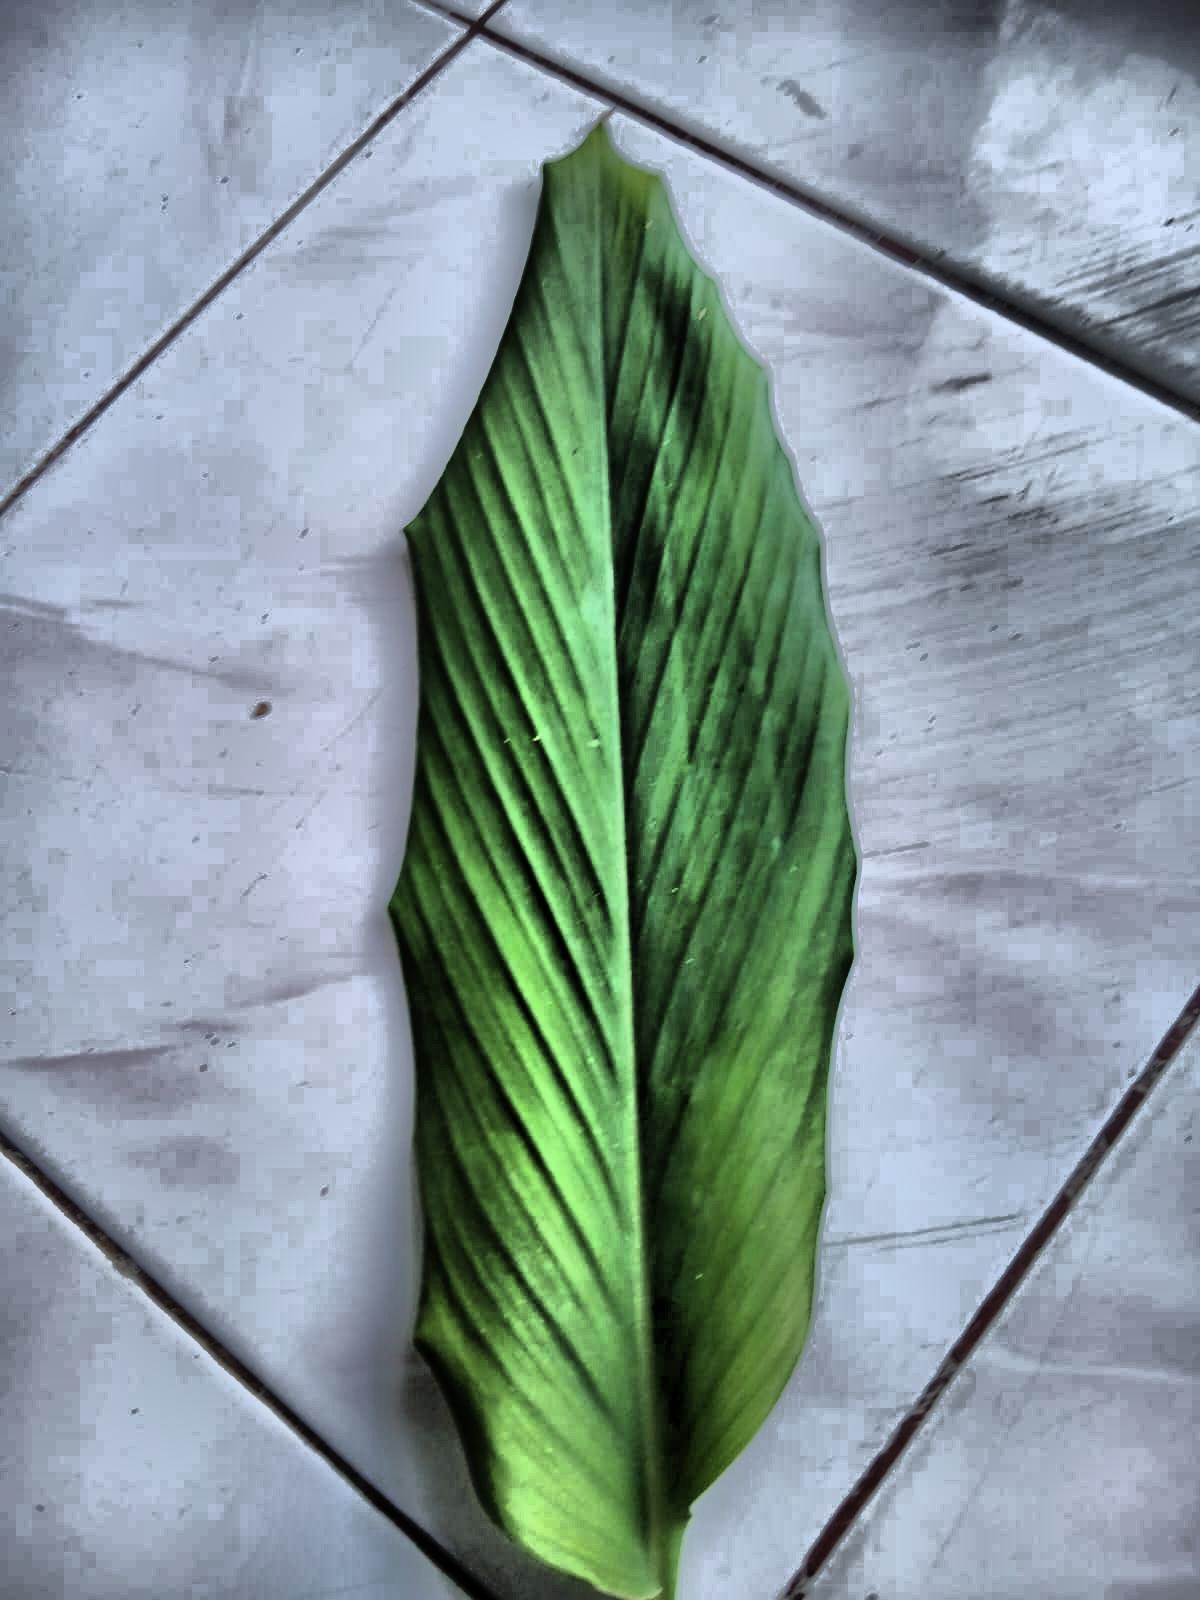daun kunyit: (389, 125, 857, 1599)
